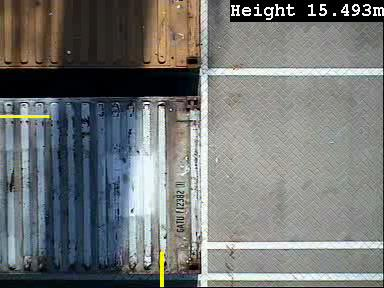groundmarker_2: (147, 128, 242, 210)
